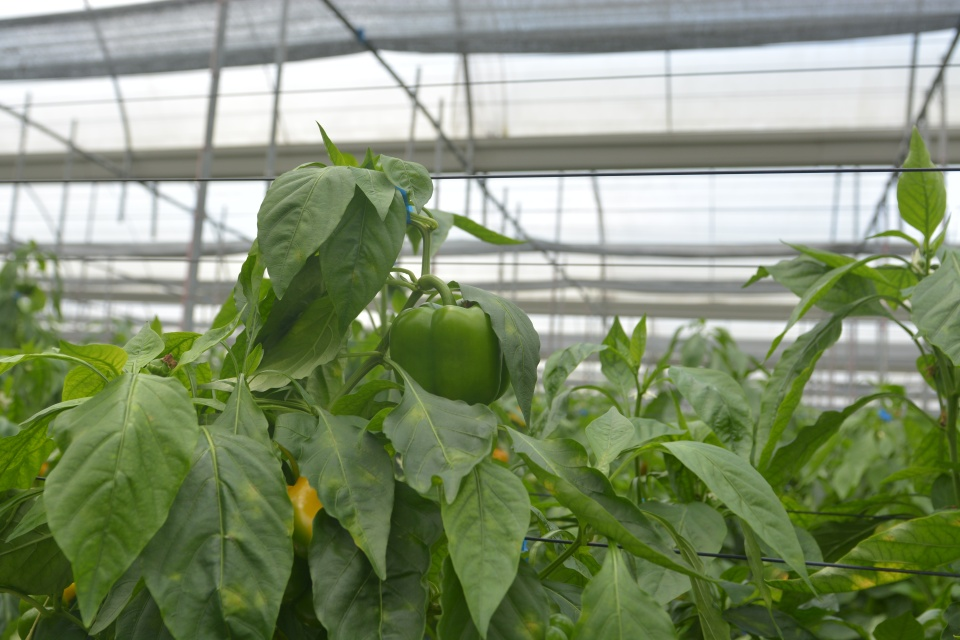fruit: (388, 294, 512, 407), (285, 474, 324, 562)
